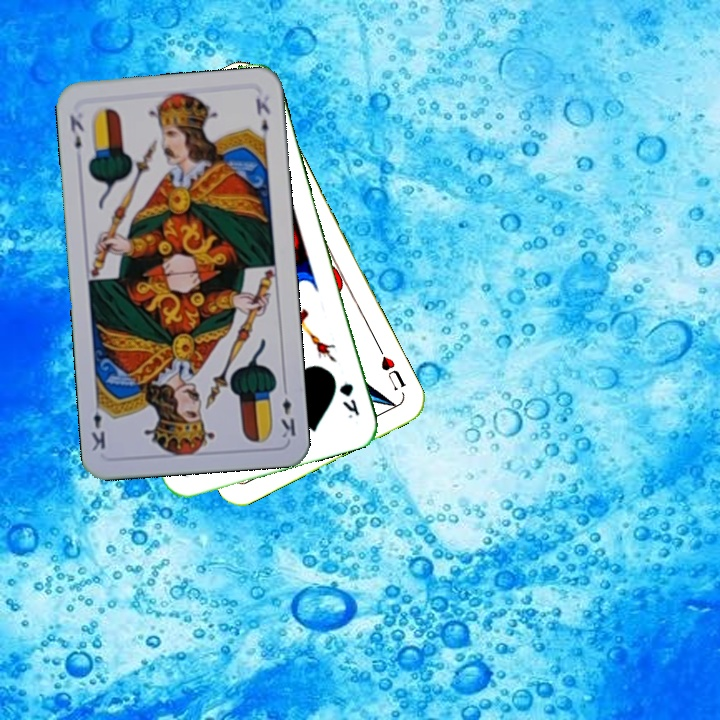EK: (277, 381, 298, 441), (65, 111, 87, 152)
GK: (335, 379, 362, 421)
HU: (373, 342, 409, 394)
